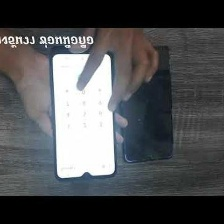phone: (47, 46, 121, 183), (114, 37, 178, 167)
